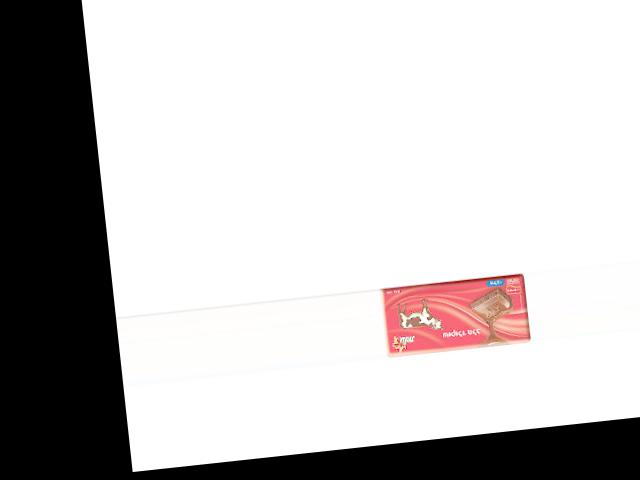chocolate: (378, 273, 531, 358)
